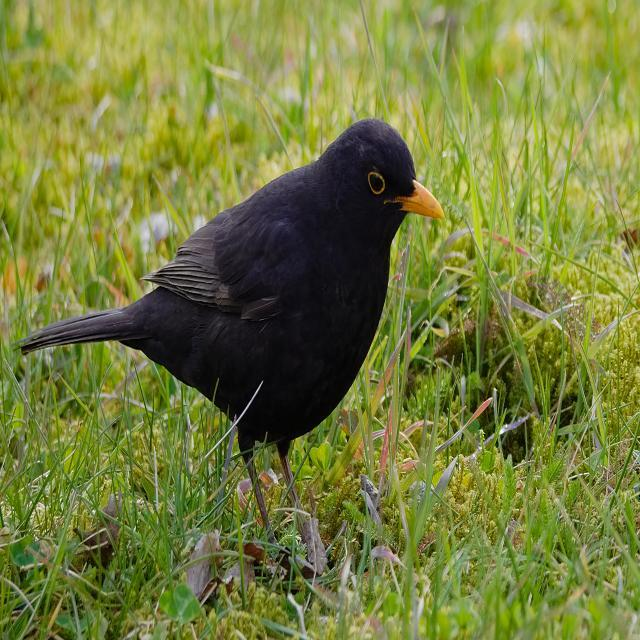bird: (12, 36, 459, 587)
